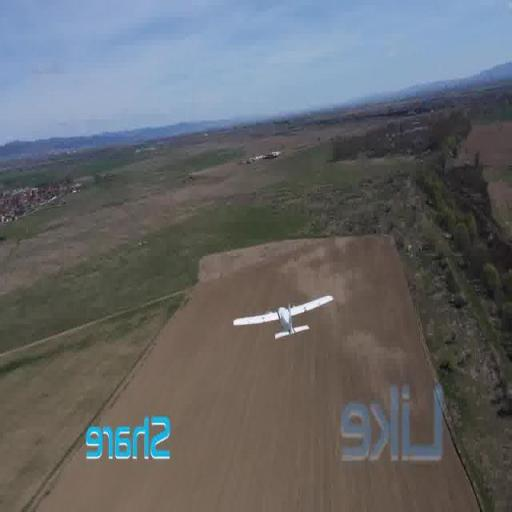uav: (230, 286, 338, 356)
